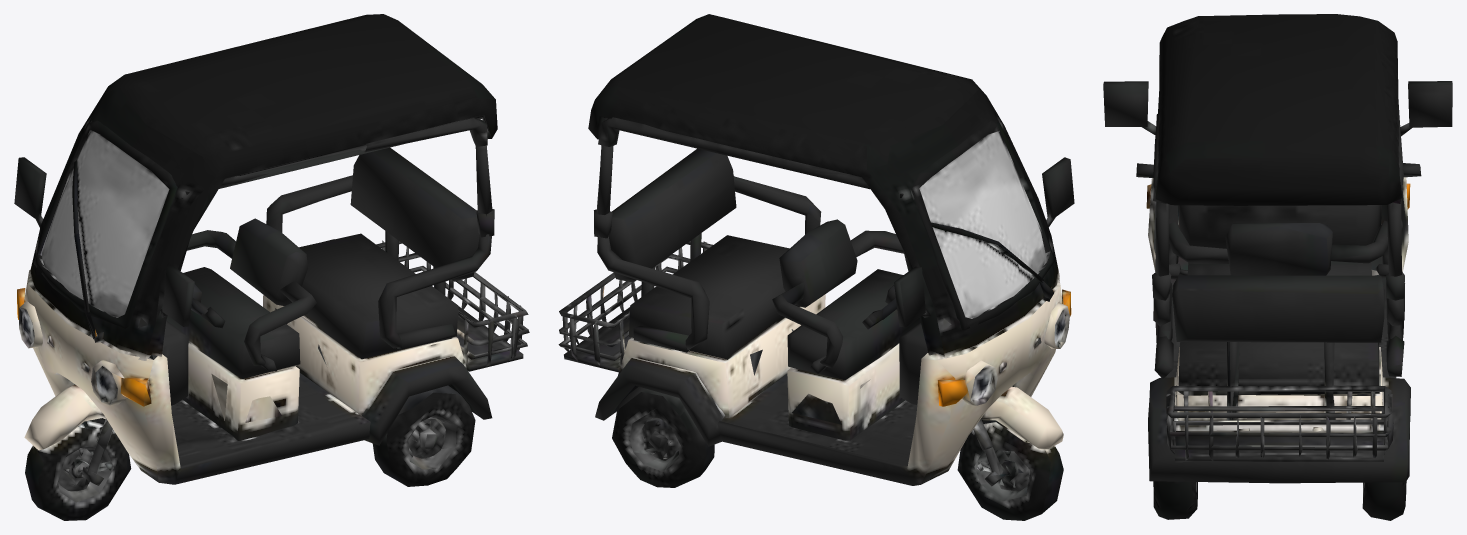
The model's file is ebike.glb.
3 renders of one model, left to right at view 1: azimuth 30°, elevation 25°; view 2: azimuth 150°, elevation 25°; view 3: azimuth 270°, elevation 25°, orthographic. The views are drawn at different scales.
Visible parts, largest first — view 1: Mesh0; view 2: Mesh0; view 3: Mesh0.
Part boxes in pixels (x1,y1,x2,y2): Mesh0: [14, 14, 529, 520]; Mesh0: [558, 14, 1074, 520]; Mesh0: [1103, 14, 1452, 520].
Bounding box in the file's own units: 1 × 0.8351 × 0.6622.
Materials: 1 (1 with a texture image).
